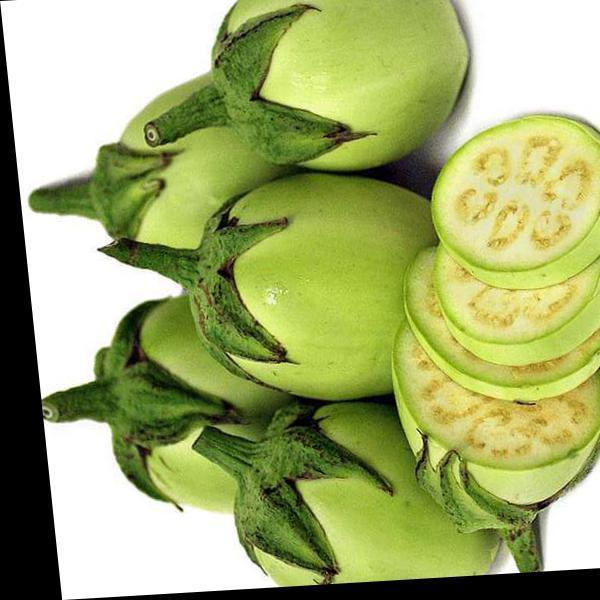eggplant: (61, 0, 596, 586)
